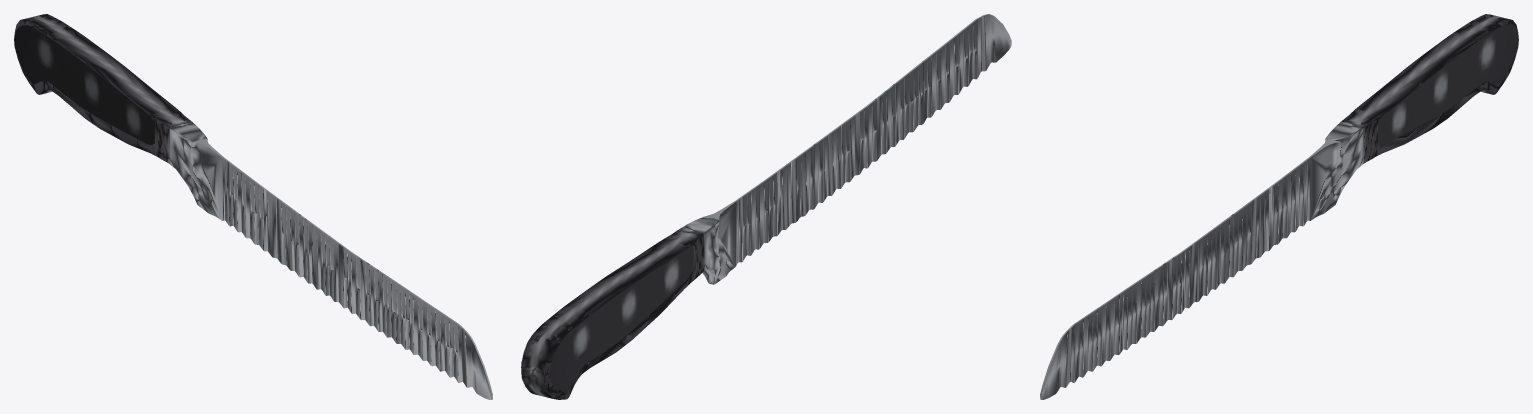
Rendered from kitchen-knife-set---asset-pack-c55d34.glb.
3 renders of one model, left to right at view 1: azimuth 30°, elevation 25°; view 2: azimuth 150°, elevation 25°; view 3: azimuth 330°, elevation 25°, orthographic. The views are drawn at different scales.
Parts seen in each view (by area): view 1: PropMesh; view 2: PropMesh; view 3: PropMesh.
Boxes of the visible parts, x1,y1,x2,y2 form: PropMesh: [14, 14, 492, 399]; PropMesh: [521, 14, 1011, 399]; PropMesh: [1040, 14, 1518, 399].
Size of the model in its own units: 0.013 by 0.0324 by 0.38.
Materials: 1 (1 with a texture image).
